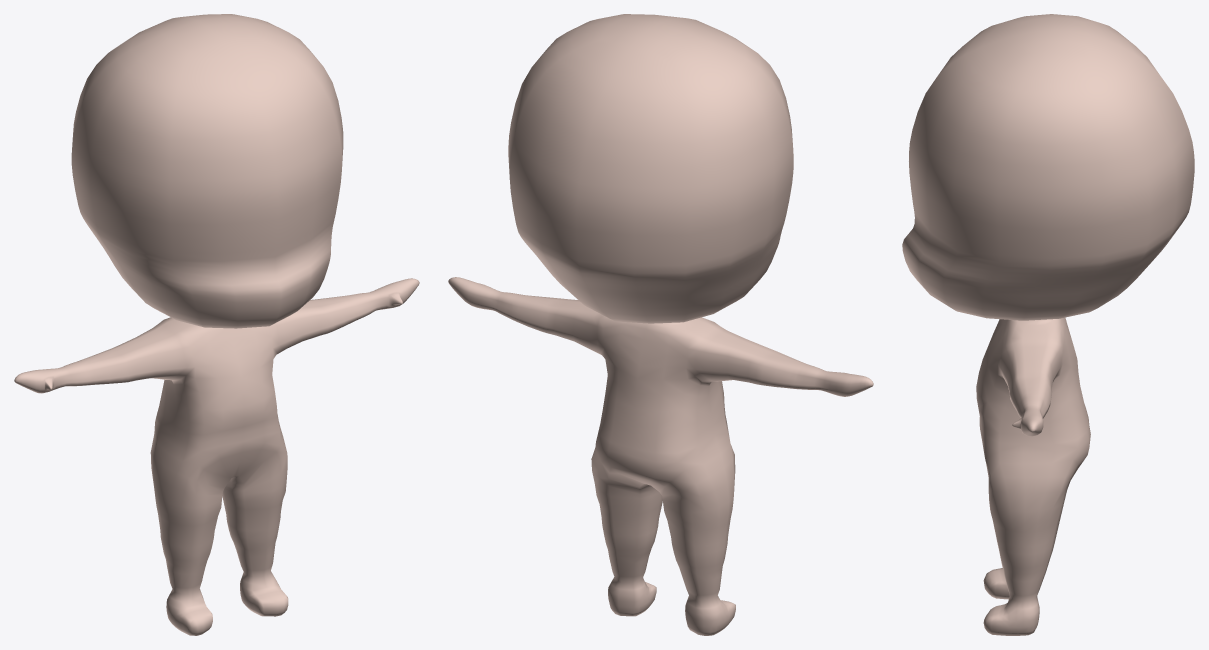
Rendered from cuerpo.fbx.
3 views of the same model, side by side, from view 1: azimuth 30°, elevation 25°; view 2: azimuth 150°, elevation 25°; view 3: azimuth 270°, elevation 25° (orthographic). The views are drawn at different scales.
Visible parts, largest first — view 1: pCube4; view 2: pCube4; view 3: pCube4.
Part boxes in pixels (x1,y1,x2,y2): pCube4: (14, 14, 419, 635); pCube4: (448, 14, 873, 635); pCube4: (902, 14, 1194, 635).
Bounding box in the file's own units: 45.95 × 62.5 × 28.44.
